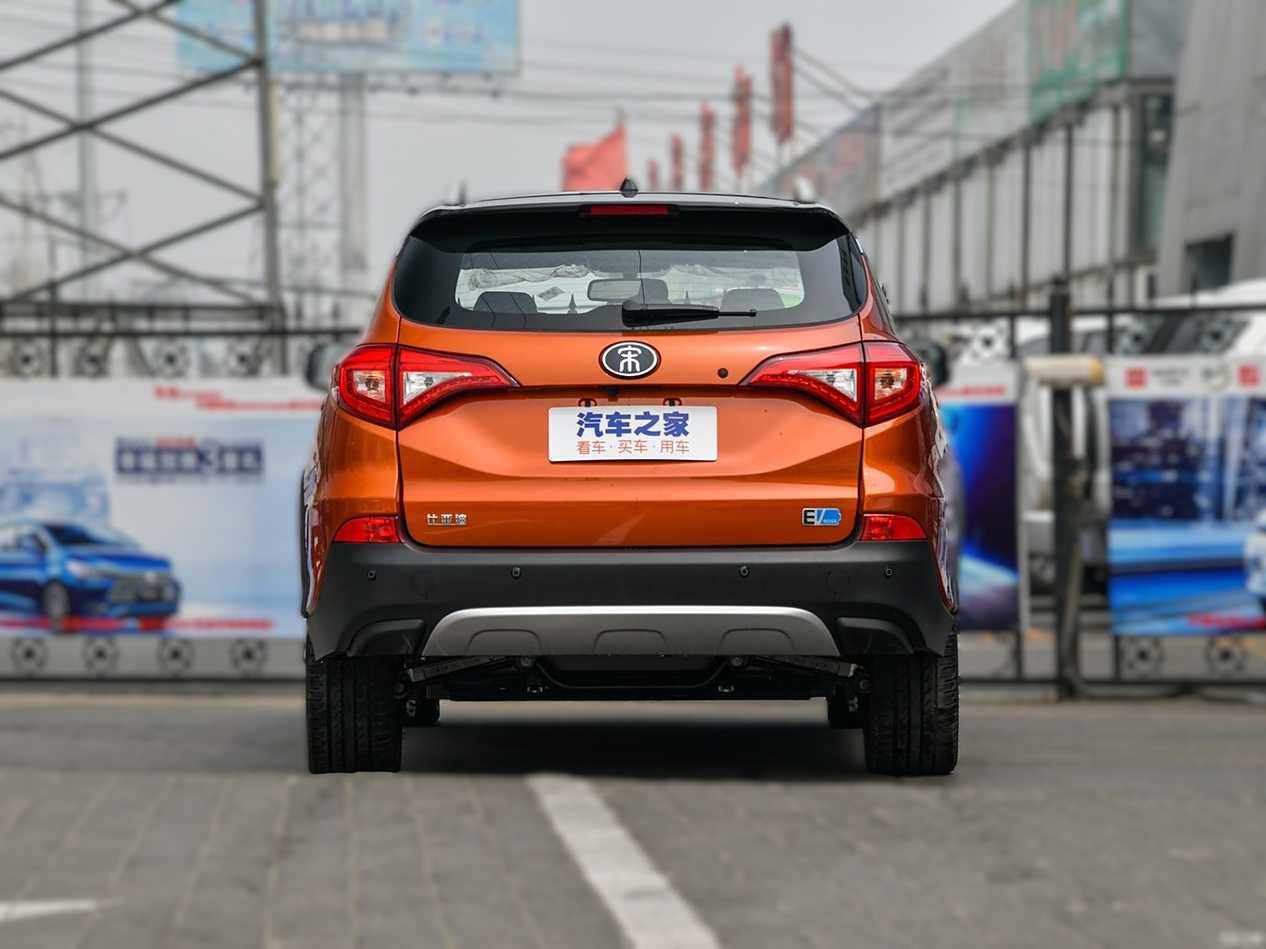BYD Song: (600, 342, 660, 380)
